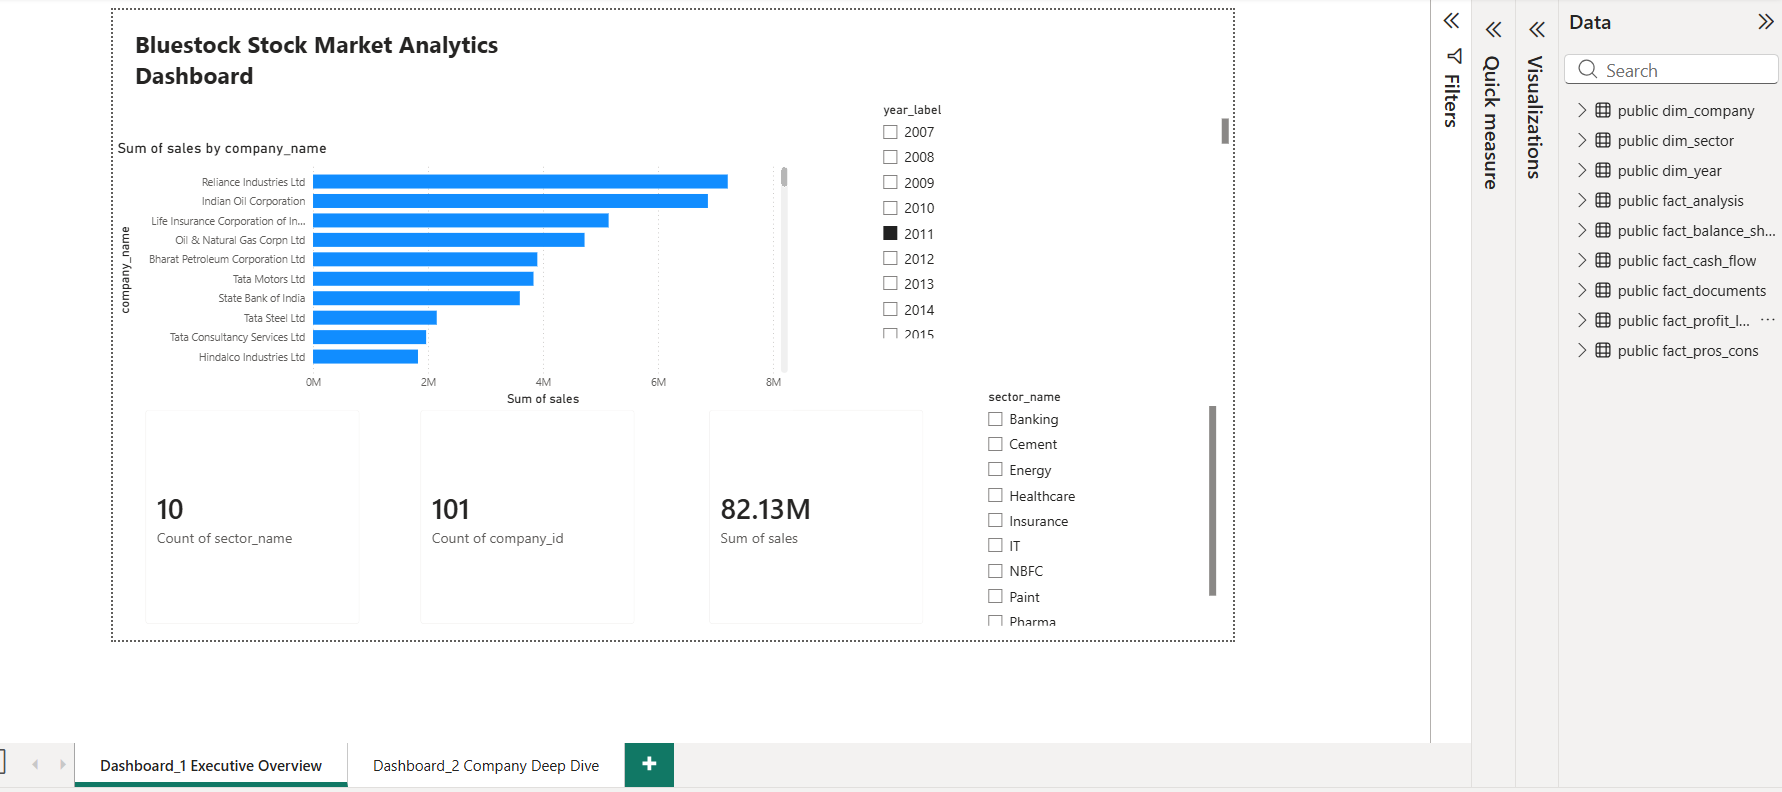

This screenshot's page, from the dashboard's own definition file:
{"tool":"powerbi","page":{"name":"Dashboard_1 Executive Overview","canvas":[1280,720],"ordinal":0},"visuals":[{"type":"cardVisual","fields":{"Data":["Count(public dim_company.company_id)"]},"box":[334.5,440.3,279.9,279.9],"z":0},{"type":"cardVisual","fields":{"Data":["Count(public dim_sector.sector_name)"]},"box":[20.5,440.3,279.9,279.9],"z":1000},{"type":"cardVisual","fields":{"Data":["Sum(public fact_profit_loss.sales)"]},"box":[663.9,440.3,279.9,279.9],"z":2000},{"type":"clusteredBarChart","fields":{"Y":["Sum(public fact_profit_loss.sales)"],"Category":["public dim_company.company_name"]},"box":[0,146.8,776.5,310.6],"z":3000},{"type":"slicer","fields":{"Values":["public dim_sector.sector_name"]},"box":[986.8,428,278.8,280],"z":4000},{"type":"slicer","fields":{"Values":["public dim_year.year_label"]},"box":[867,100.3,413.3,280],"z":5000},{"type":"textbox","box":[20.5,15.4,454,119.5],"z":6000}]}

Visuals, with their boxes on the page's 1280x720 design canvas (x1, y1, x2, y2). These are canvas units, not pixel positions in the 1782x792 screenshot, which may show the page scaled, cropped or inside an application window:
cardVisual - Count(public dim_company.company_id): [334,440,614,720]
cardVisual - Count(public dim_sector.sector_name): [20,440,300,720]
cardVisual - Sum(public fact_profit_loss.sales): [664,440,944,720]
clusteredBarChart - Sum(public fact_profit_loss.sales) x public dim_company.company_name: [0,147,776,457]
slicer - public dim_sector.sector_name: [987,428,1266,708]
slicer - public dim_year.year_label: [867,100,1280,380]
textbox: [20,15,474,135]
